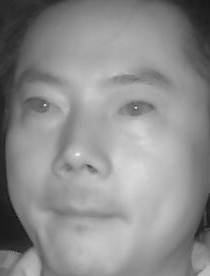eye: (19, 92, 67, 120), (112, 96, 158, 123)
mouth: (44, 188, 122, 236)
